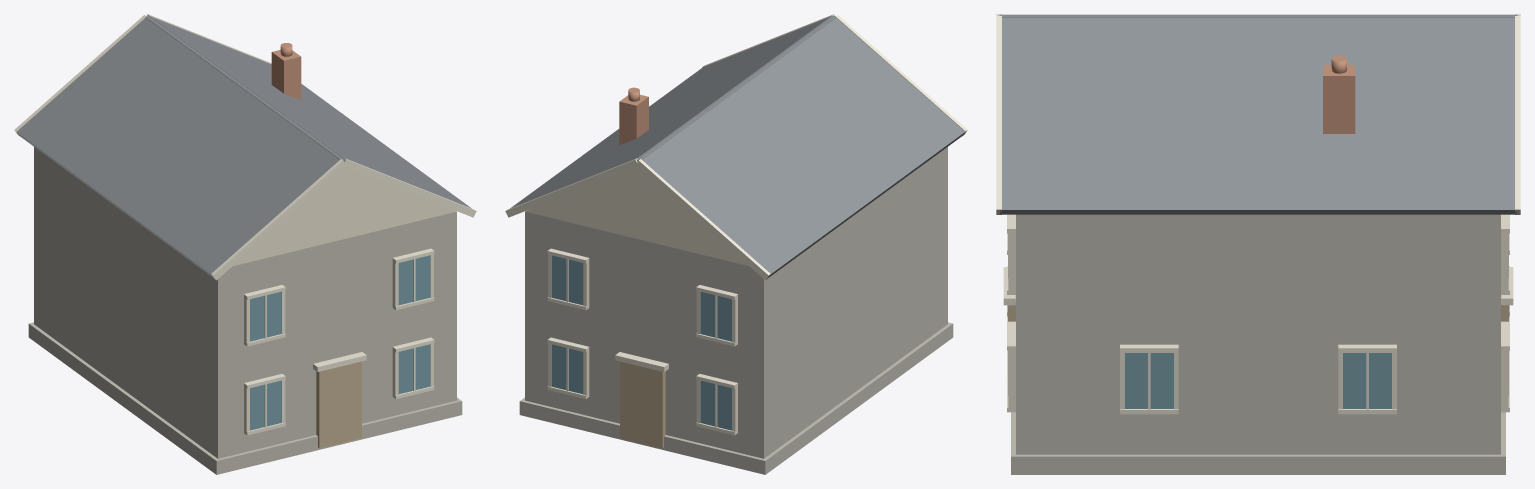
Rendered from rhine-stone-house_lod0.glb.
3 views of the same model, side by side, from view 1: azimuth 30°, elevation 25°; view 2: azimuth 150°, elevation 25°; view 3: azimuth 270°, elevation 25° (orthographic). The views are drawn at different scales.
Visible parts, largest first — view 1: RF_Body, RF_Roof.001, RF_Gable, RF_Roof, RF_Foundation, RF_Door.001, RF_Vergeband.001, RF_Window.003, RF_Window.004, RF_Window.001, RF_Window.002, RF_Chimney (+4 smaller); view 2: RF_Body, RF_Roof.001, RF_Gable.001, RF_Roof, RF_Foundation, RF_Door, RF_Vergeband.002, RF_Window.007, RF_Window.008, RF_Window.005, RF_Window.006, RF_Chimney (+4 smaller); view 3: RF_Body, RF_Roof, RF_Foundation, RF_Window.009, RF_Window, RF_Chimney, RF_Ridge, RF_Vergeband, RF_Vergeband.003, RF_Roof.001, RF_WindowFrame.016, RF_WindowFrame.008.
Part boxes in pixels (x1,y1,x2,y2): RF_Body: (34,147,456,458); RF_Roof.001: (17,17,340,278); RF_Gable: (233,167,456,265); RF_Roof: (149,16,471,208); RF_Foundation: (28,322,462,474); RF_Door.001: (316,361,361,448); RF_Vergeband.001: (211,159,346,280); RF_Window.003: (398,344,430,394); RF_Window.004: (398,255,430,305); RF_Window.001: (250,380,281,430); RF_Window.002: (250,291,281,341); RF_Chimney: (271,50,301,100); RF_Body: (525,147,947,458); RF_Roof.001: (641,17,965,277); RF_Gable.001: (525,167,748,265); RF_Roof: (510,16,832,208); RF_Foundation: (519,322,953,474); RF_Door: (620,361,665,448); RF_Vergeband.002: (636,159,770,280); RF_Window.007: (551,344,583,394); RF_Window.008: (551,255,583,305); RF_Window.005: (700,380,731,430); RF_Window.006: (700,291,731,341); RF_Chimney: (619,94,648,145); RF_Body: (1016,214,1500,454); RF_Roof: (1000,16,1516,214); RF_Foundation: (1011,412,1505,474); RF_Window.009: (1125,353,1173,408); RF_Window: (1343,353,1391,408); RF_Chimney: (1323,65,1355,133); RF_Ridge: (999,15,1517,17); RF_Vergeband: (1515,16,1520,214); RF_Vergeband.003: (996,16,1001,214); RF_Roof.001: (1000,14,1516,15); RF_WindowFrame.016: (1501,227,1508,294); RF_WindowFrame.008: (1008,227,1015,294).
Bounding box in the file's own units: 9.93 × 10.47 × 12.98.
